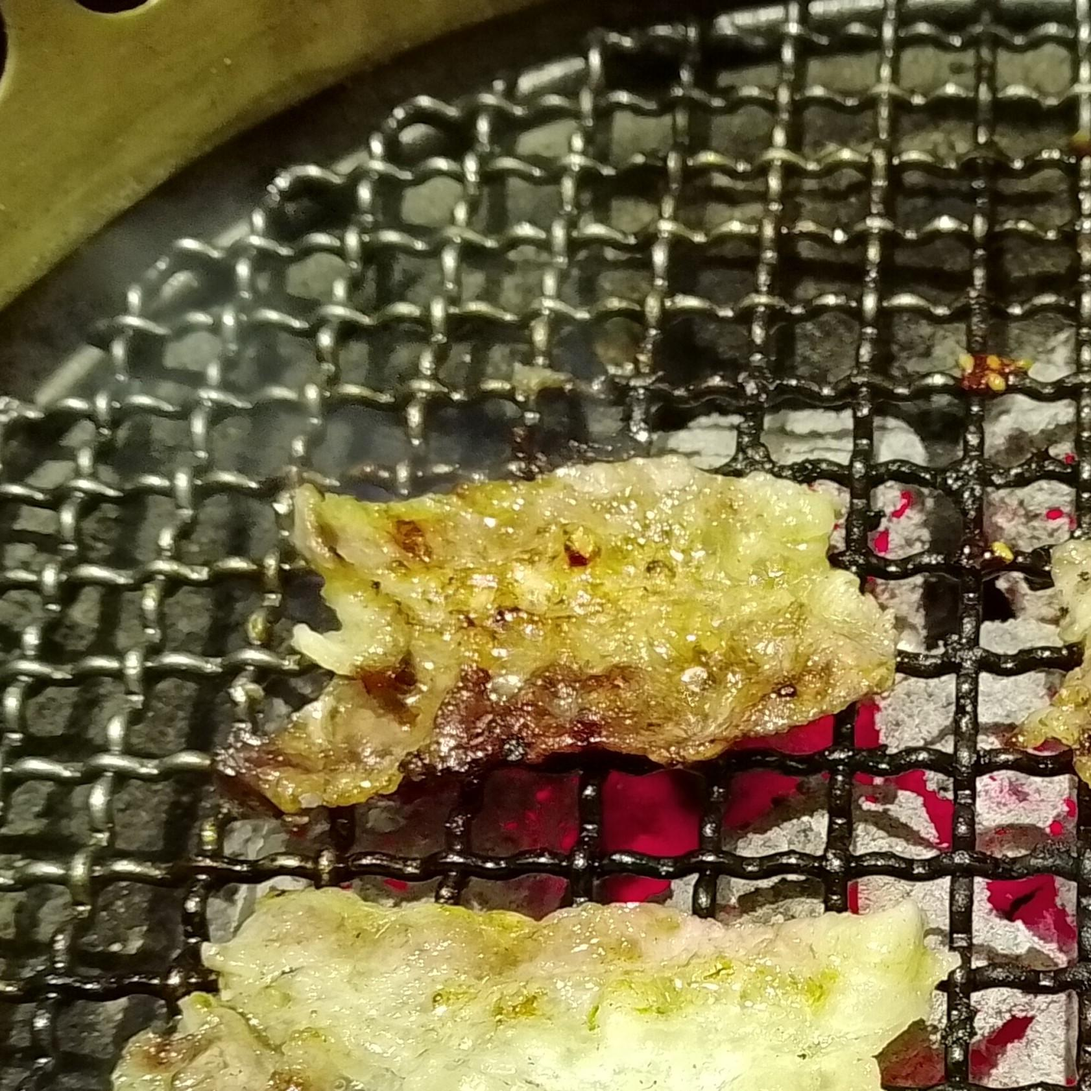Overcooked: (233, 458, 897, 819)
Well-Cooked: (106, 885, 953, 1090)
